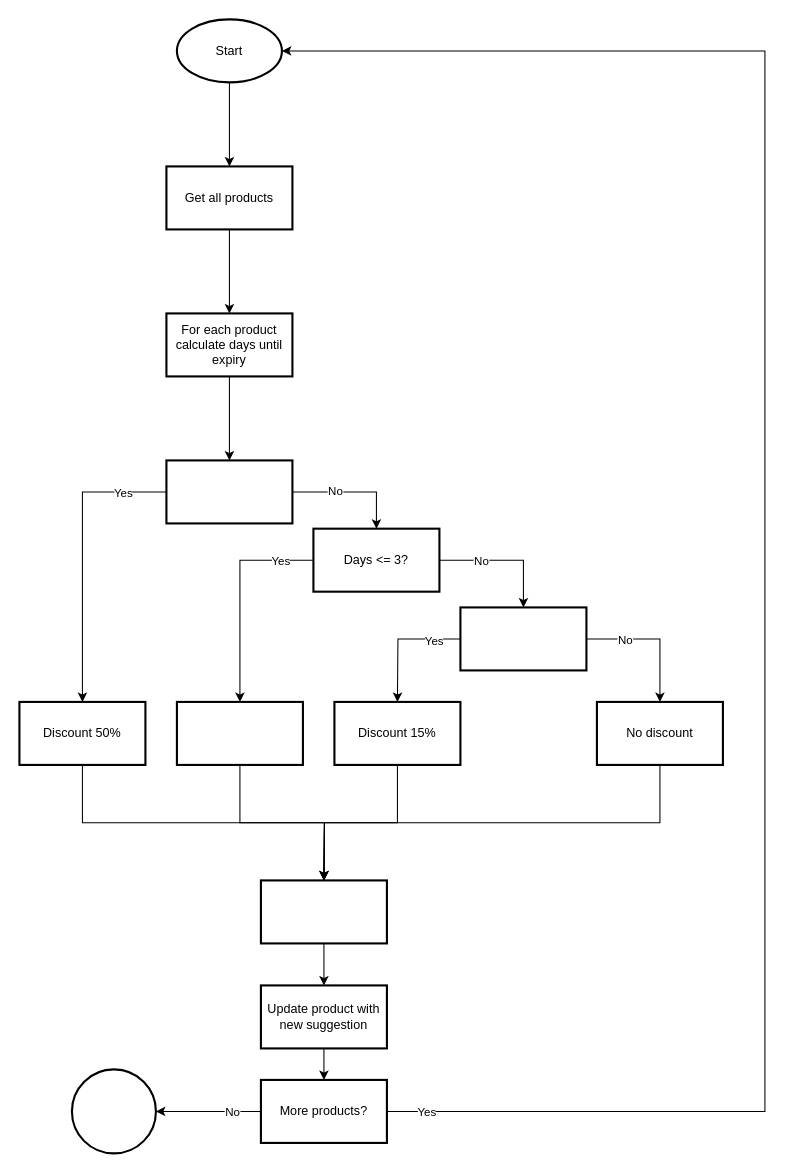
The diagram is 792 pixels wide and 1172 high, and some of its shapes have lost their labels. Here are the shapes that lost their labels. From the top down, the centre of each, then its label:
(229,491): Days <= 1?
(523,638): Days <= 5?
(239,732): Discount 25%
(323,911): Generate price suggestion
(113,1111): End
